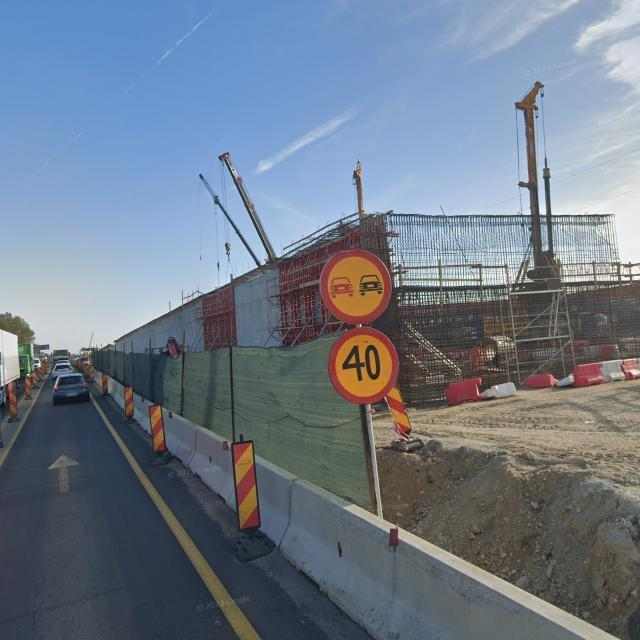forb_overtake: (318, 249, 393, 324)
forb_speed_over_40: (328, 327, 400, 403)
